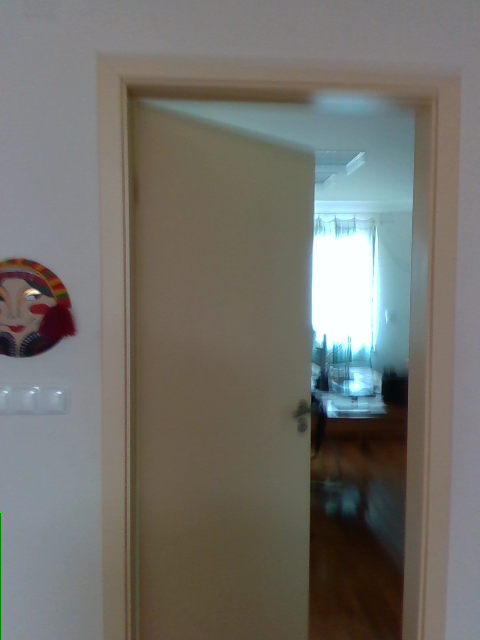semi: (96, 53, 455, 639)
